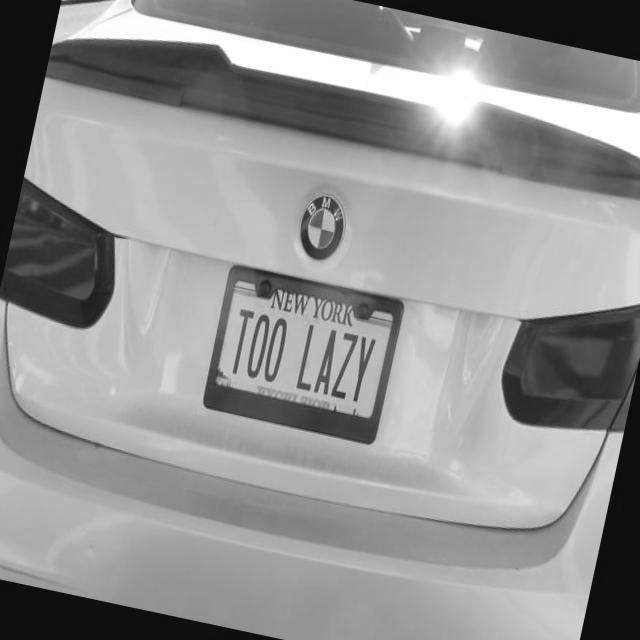LicensePlate: (201, 264, 405, 446)
